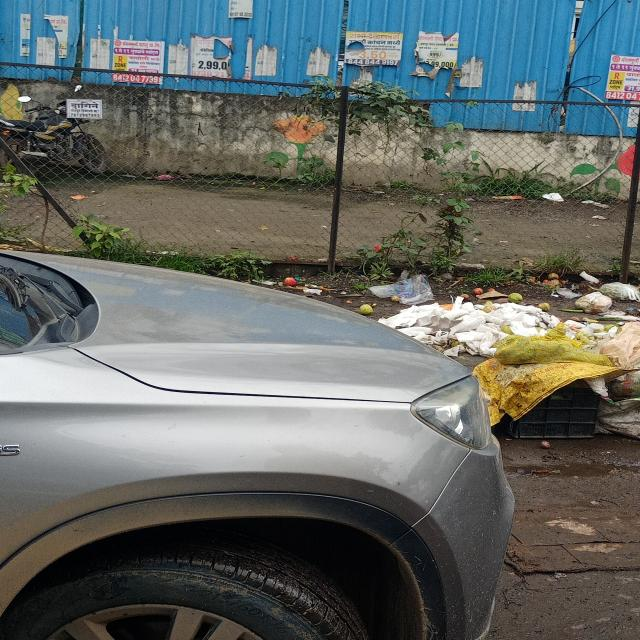garbage: (379, 252, 640, 417)
